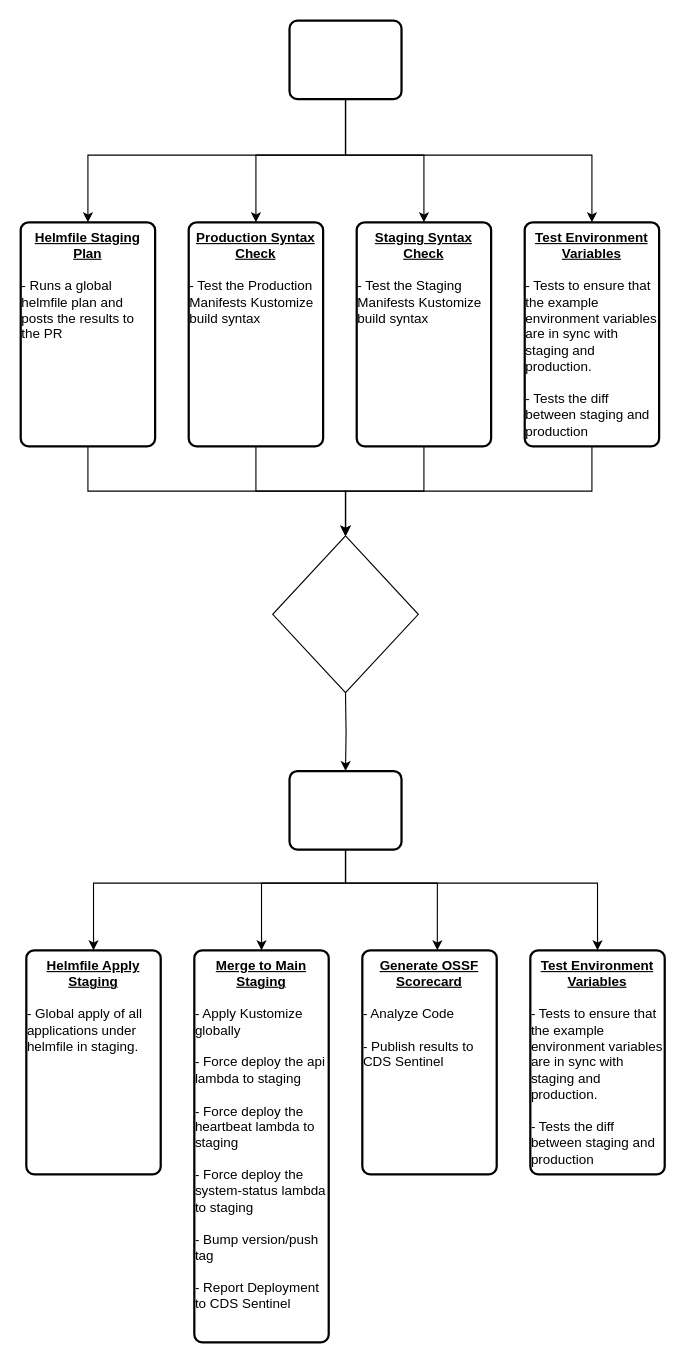
This 684x1362 diagram has some shape labels left out. Here are the shapes that lost their labels. From the top down, the box of each, then its label:
(288, 19, 402, 100): Pull Request
(272, 535, 418, 693): Tests Passed and Approved?
(288, 769, 402, 850): Merge To Main
